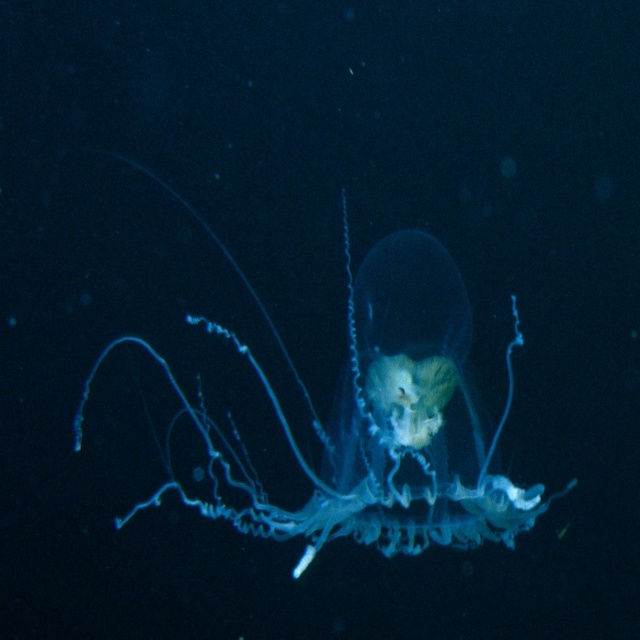Jellyfish: (73, 149, 578, 581)
